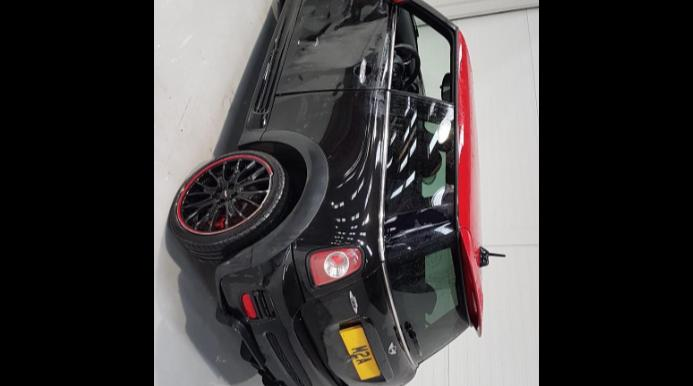Dent: (280, 0, 390, 76)
Missing part: (390, 0, 454, 100)
Scratch: (374, 24, 390, 82), (262, 38, 278, 80)
